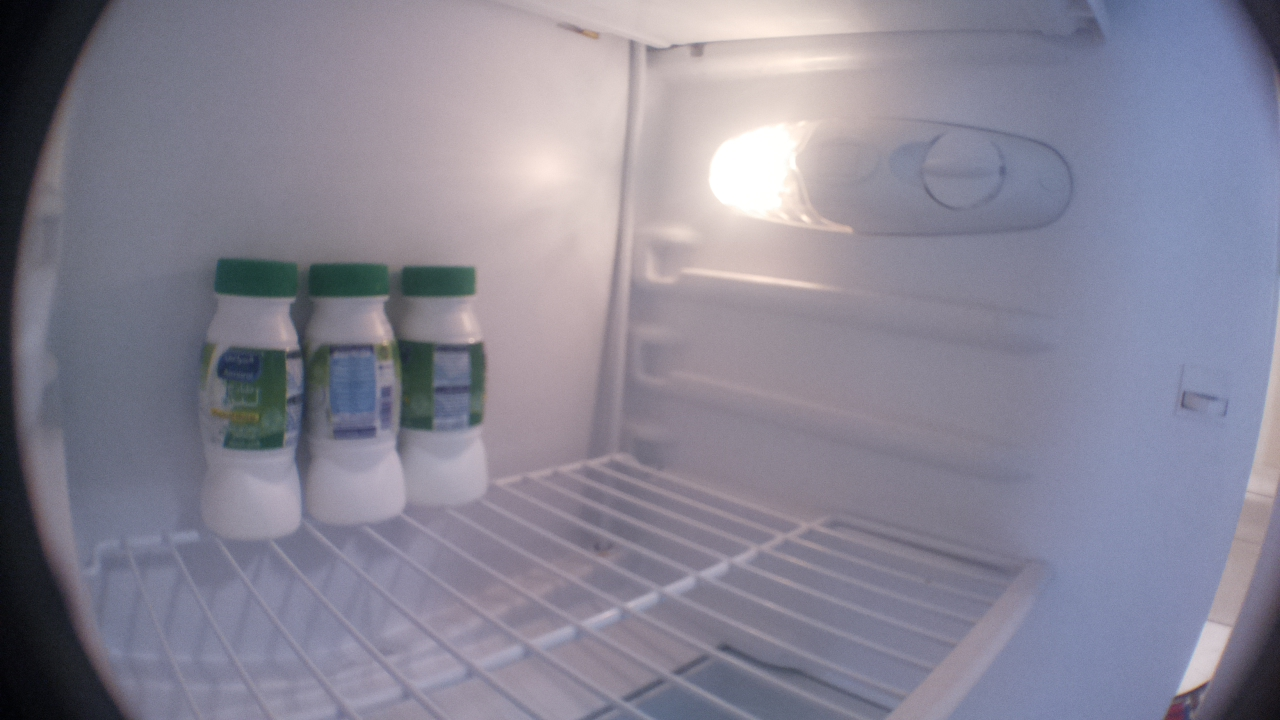laban: (194, 258, 307, 542), (302, 259, 405, 532), (399, 262, 491, 509)
